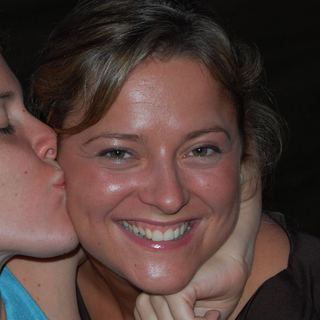eye: (92, 141, 142, 165), (182, 139, 228, 163)
